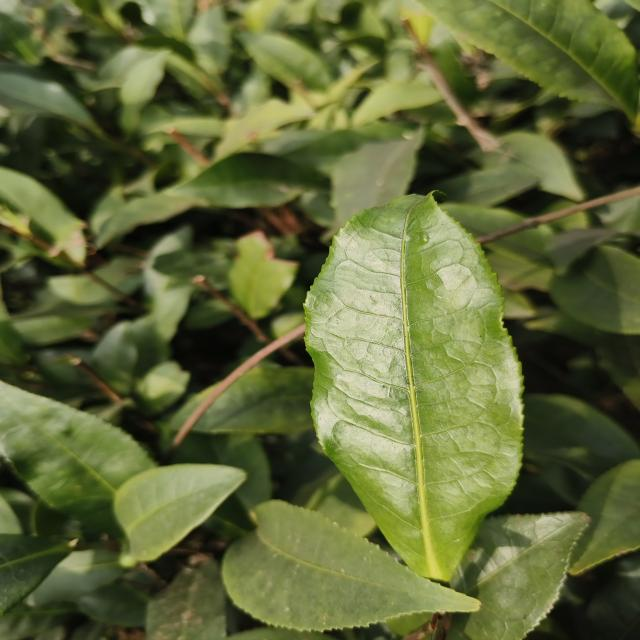Leaf: (305, 194, 522, 581), (222, 500, 480, 631), (419, 0, 638, 120), (0, 382, 156, 537), (447, 512, 587, 640), (114, 464, 246, 564), (330, 129, 422, 233), (174, 432, 272, 527), (524, 394, 640, 474), (166, 152, 329, 208), (0, 166, 86, 265), (193, 366, 314, 434), (569, 460, 640, 575), (551, 246, 640, 334), (474, 131, 584, 201), (145, 558, 226, 640), (90, 317, 170, 396), (228, 231, 298, 319), (0, 534, 71, 614), (0, 72, 95, 128), (31, 549, 125, 605), (241, 32, 330, 91), (120, 49, 169, 133), (353, 81, 441, 126), (434, 169, 536, 206), (76, 583, 149, 627), (187, 6, 230, 73), (445, 202, 525, 238), (488, 226, 554, 264), (169, 383, 219, 430)
